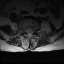CCS_normal: (28, 29, 30, 38)
LFS_normal: (33, 27, 35, 33)
LLS_normal: (30, 29, 33, 37)
RFS_stenosis: (24, 27, 26, 33)
RLS_normal: (26, 28, 28, 37)
